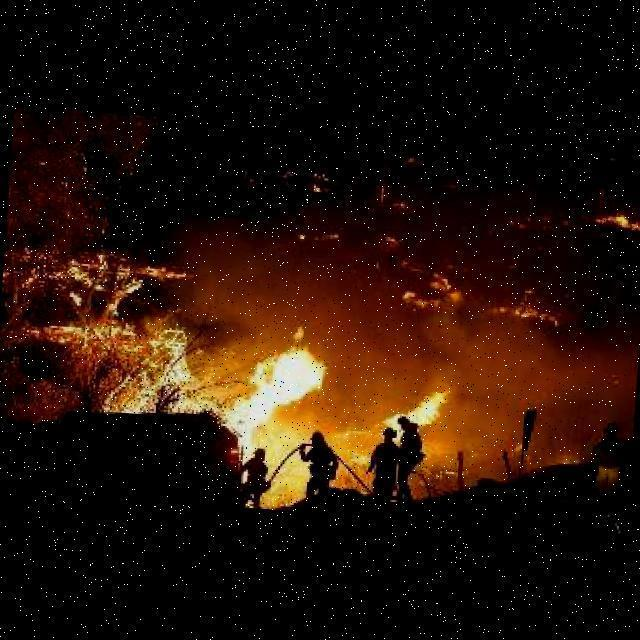fire: (38, 247, 195, 415), (216, 324, 332, 443), (366, 378, 456, 446), (391, 263, 466, 314), (485, 284, 567, 327), (592, 204, 640, 234)
